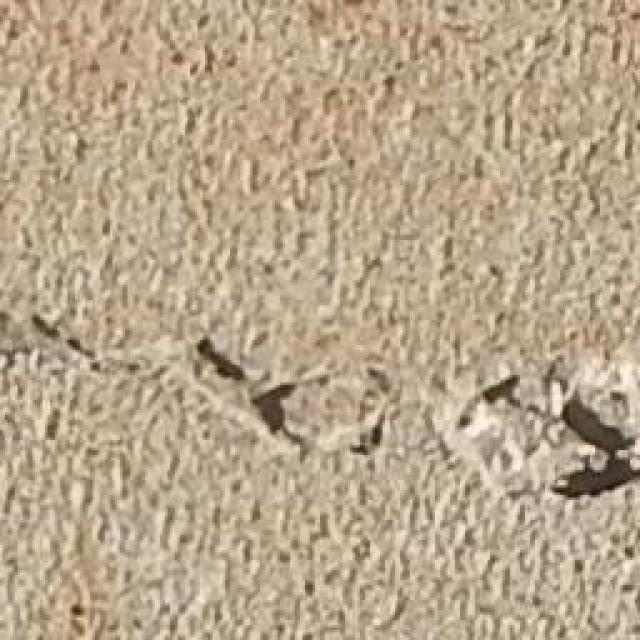concrete-crack: (0, 304, 400, 466), (552, 400, 640, 502)
